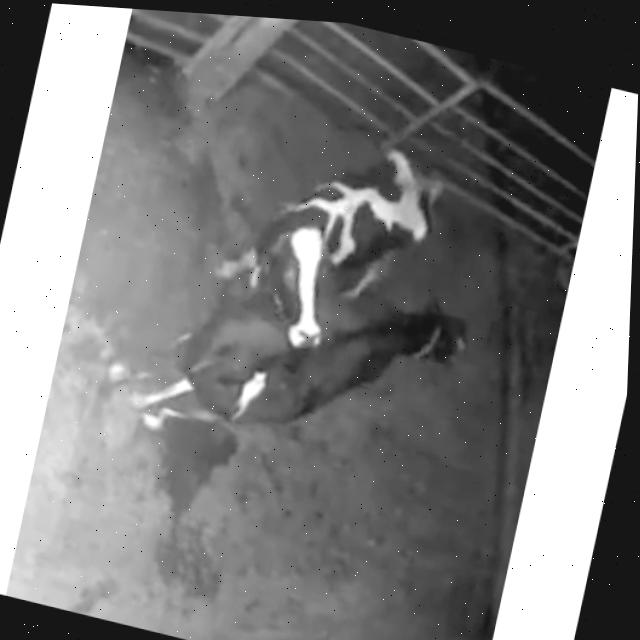propping: (229, 206, 379, 391)
